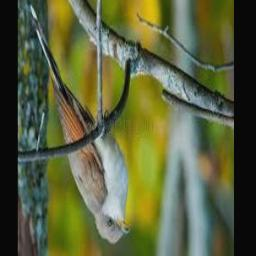Cuckoo: (29, 6, 130, 245)
